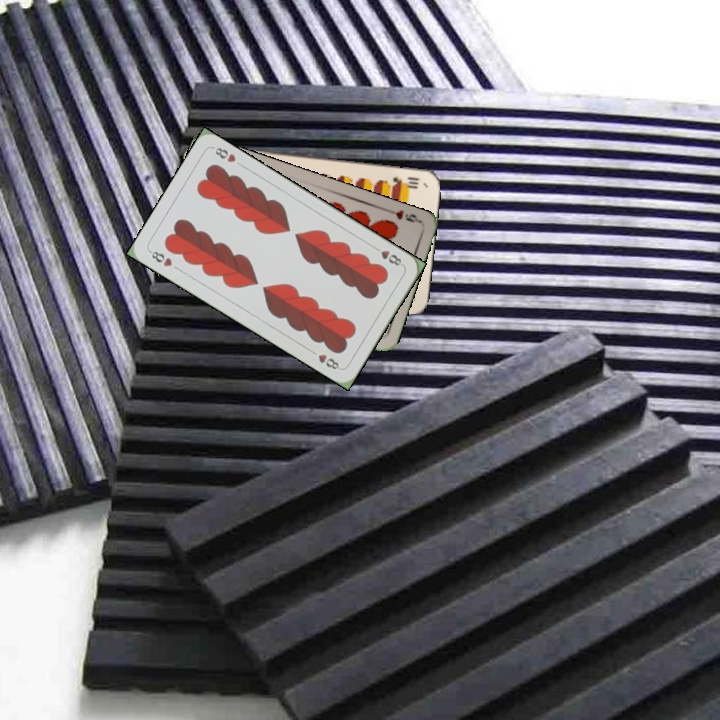E10: (389, 172, 421, 188)
H8: (369, 242, 406, 269), (145, 247, 175, 269)
H9: (383, 205, 422, 225)
